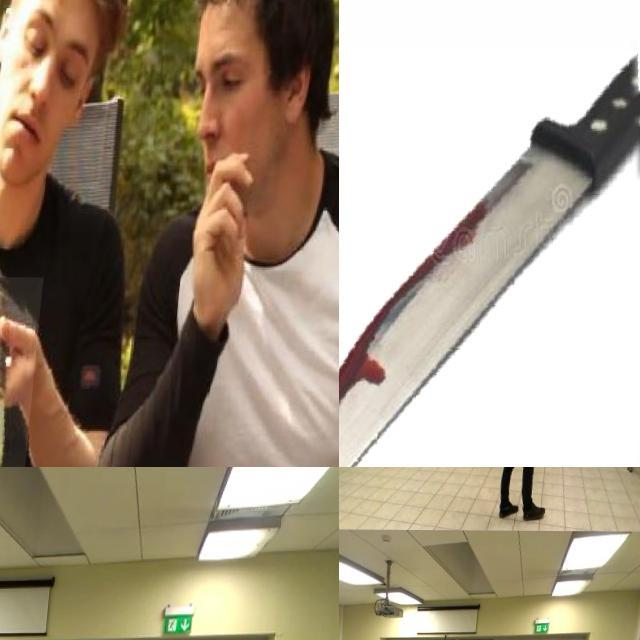-: (339, 46, 640, 467), (0, 276, 51, 467)
gun-knife-thesis - v11 Yolov5 augmented: (574, 467, 596, 477), (339, 467, 350, 477)
